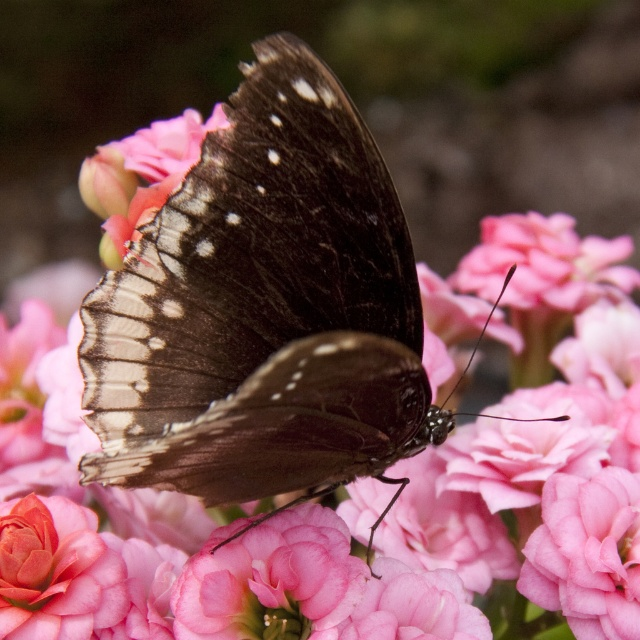Butterfly: (74, 17, 572, 576)
